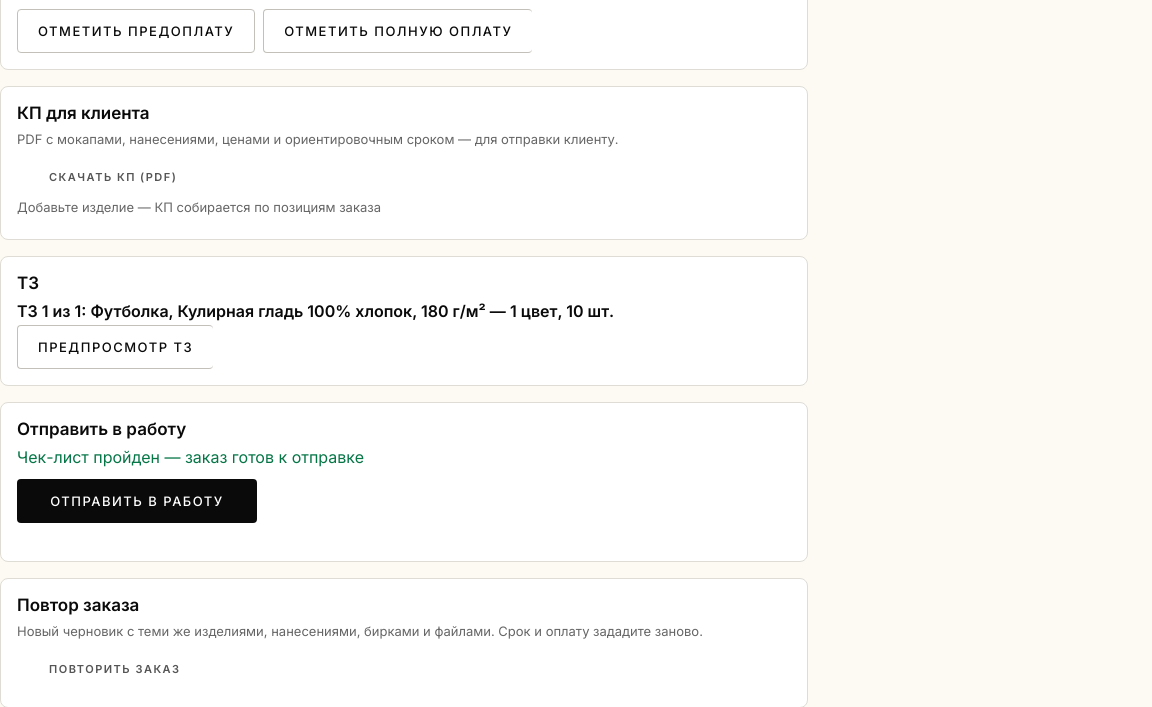
Test: ТЗ: предпросмотр и черновик всех ТЗ › отказ сборки предпросмотра — текст отказа в role=alert
(page scrolled)
Click the button "Предпросмотр ТЗ".
click(115, 347)  # box [17,325,213,369]
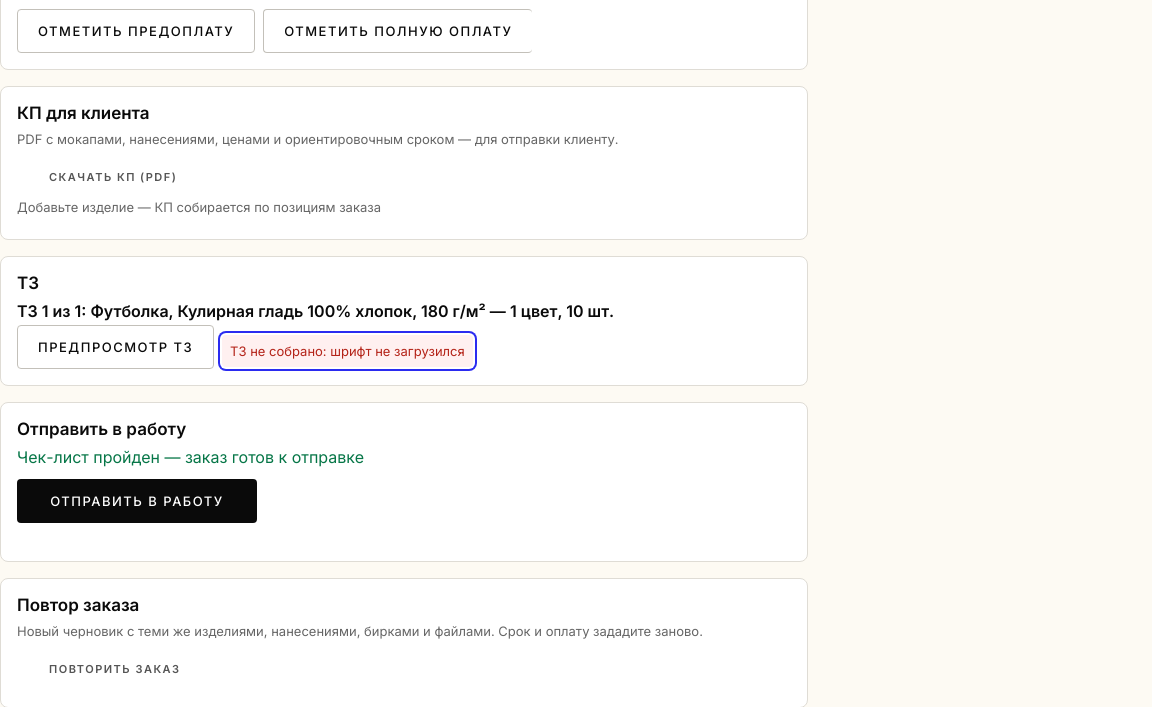
Expected: the message reads "ТЗ не собрано: шрифт не загрузился", [230,343,465,359]
